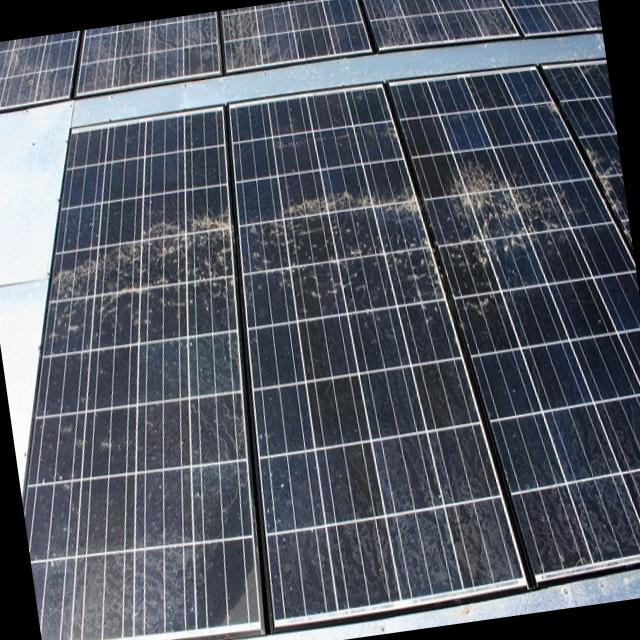faulty: (13, 63, 640, 638), (0, 0, 601, 120)
